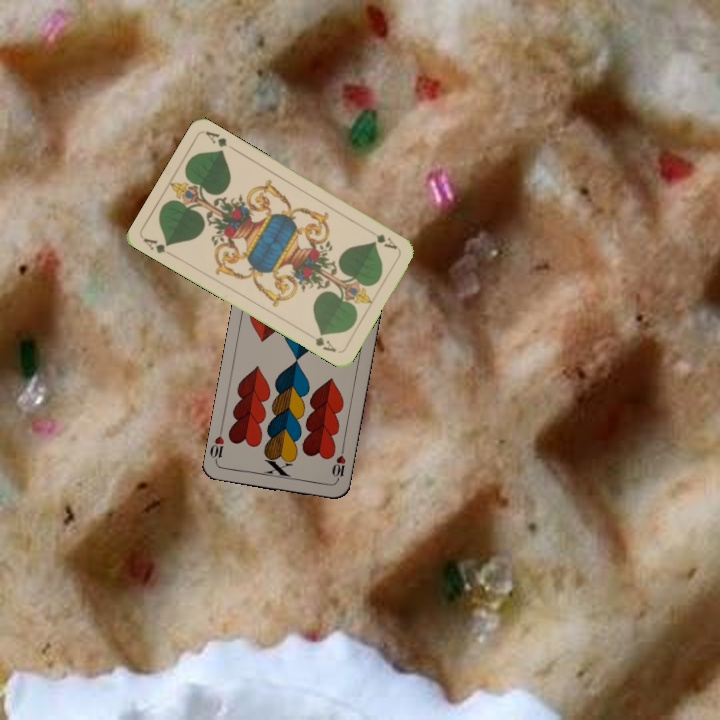GA: (364, 225, 400, 252), (139, 234, 173, 256)
H10: (328, 444, 348, 485)
